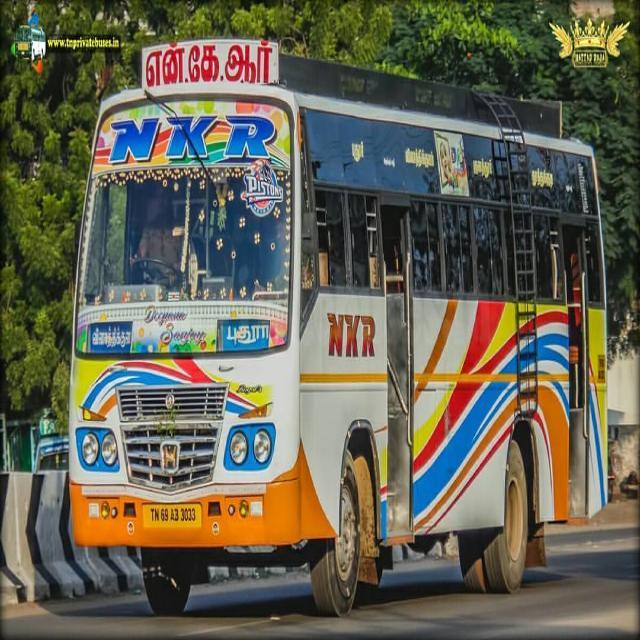Bus: (67, 34, 610, 616)
